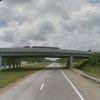Bridge: (4, 35, 93, 71)
